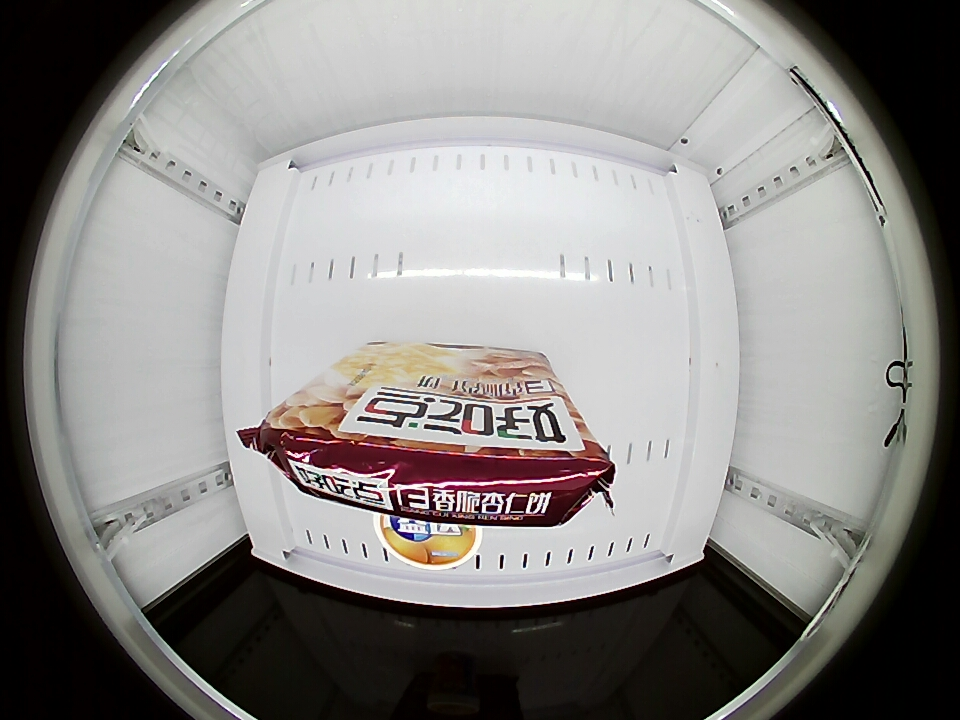haochidian: (258, 348, 616, 530)
